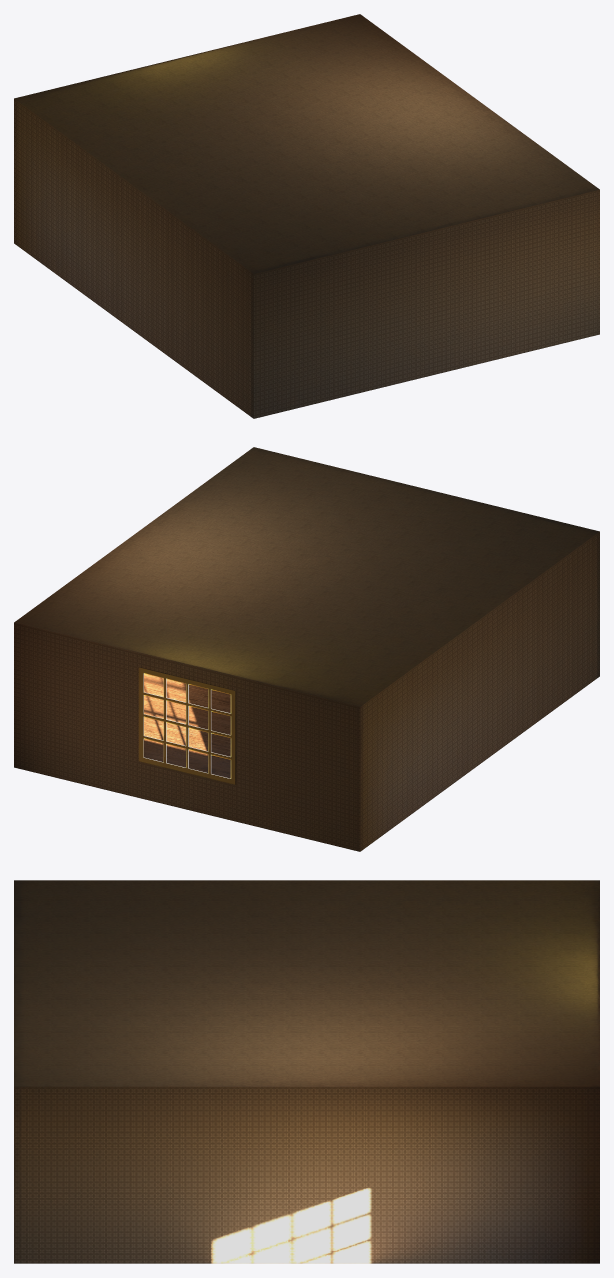
3 views of the same model, one above another, from view 1: azimuth 30°, elevation 25°; view 2: azimuth 150°, elevation 25°; view 3: azimuth 270°, elevation 25° (orthographic). The views are drawn at different scales.
Visible parts, largest first — view 1: Cube_0; view 2: Cube_0; view 3: Cube_0.
Boxes of the visible parts, x1,y1,x2,y2 form: Cube_0: (14,14,599,418); Cube_0: (14,447,599,851); Cube_0: (14,880,599,1263).
Bounding box in the file's own units: 10 × 4 × 12.
1 material, 1 textured.
